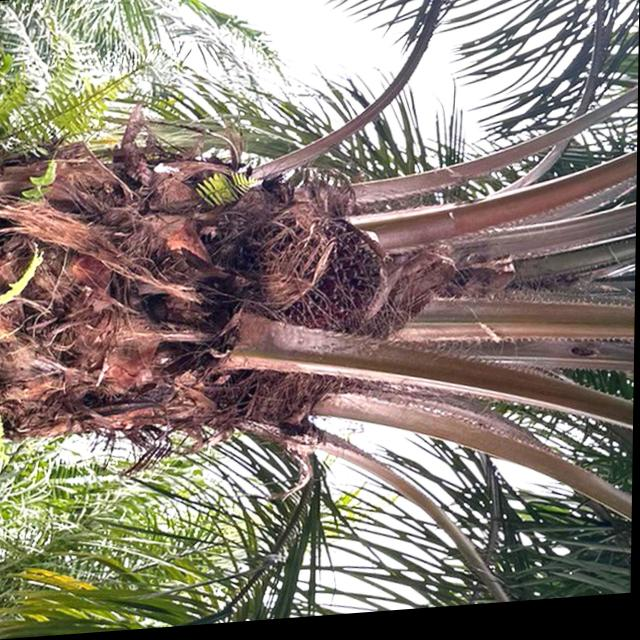ripe: (287, 227, 394, 344)
